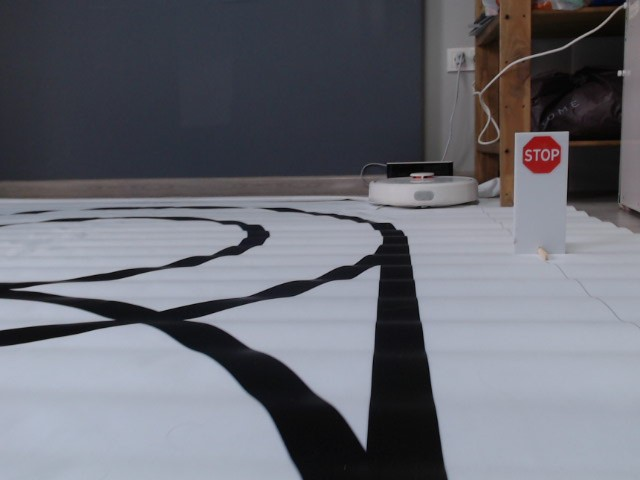Stop: (522, 135, 562, 174)
